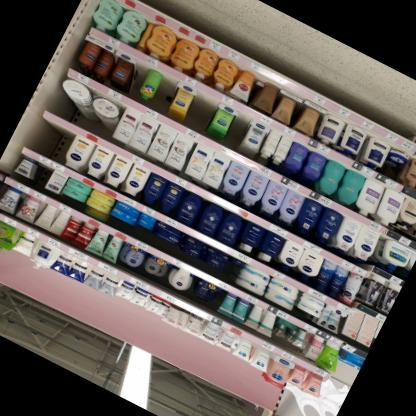empty_space: (25, 110, 77, 164), (178, 84, 220, 135), (219, 102, 256, 151)
